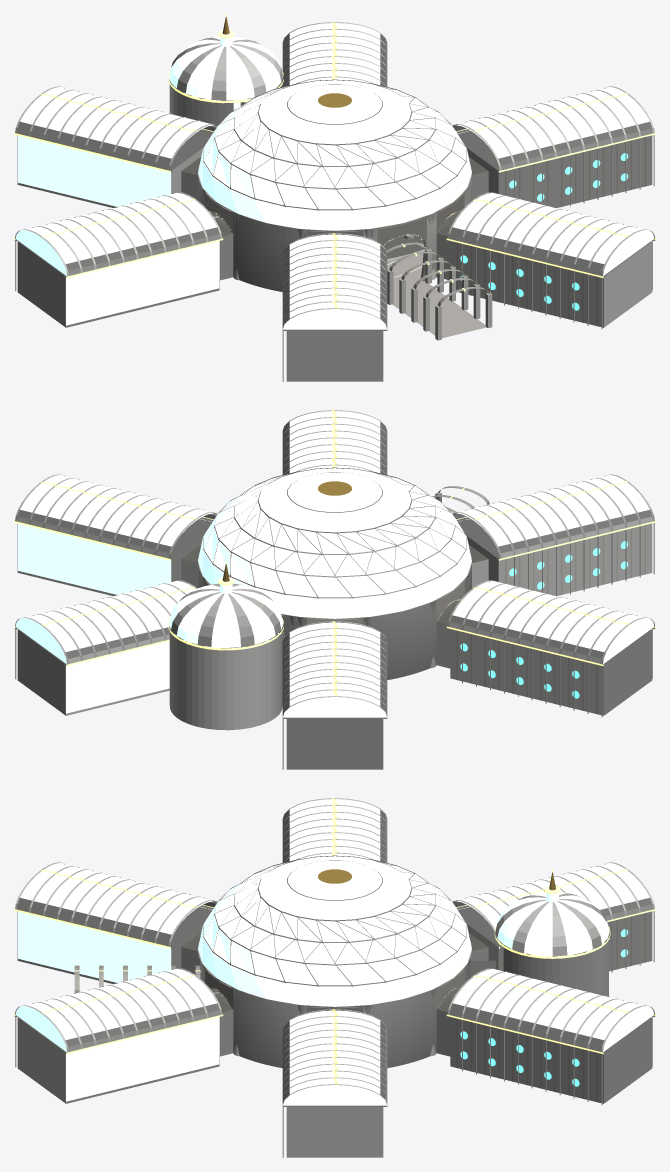
The model's file is shaddai_athenaeum_interior_v01.glb.
3 renders of one model, top to bottom at view 1: azimuth 30°, elevation 25°; view 2: azimuth 150°, elevation 25°; view 3: azimuth 270°, elevation 25°, orthographic.
Parts seen in each view (by area): view 1: shaddai_athenaeum_interior; view 2: shaddai_athenaeum_interior; view 3: shaddai_athenaeum_interior.
Boxes of the visible parts, left/top/right/bottom form: shaddai_athenaeum_interior: left=14, top=14, right=655, bottom=381; shaddai_athenaeum_interior: left=14, top=410, right=655, bottom=769; shaddai_athenaeum_interior: left=14, top=798, right=655, bottom=1157.
Bounding box in the file's own units: 169 × 43.6 × 159.
